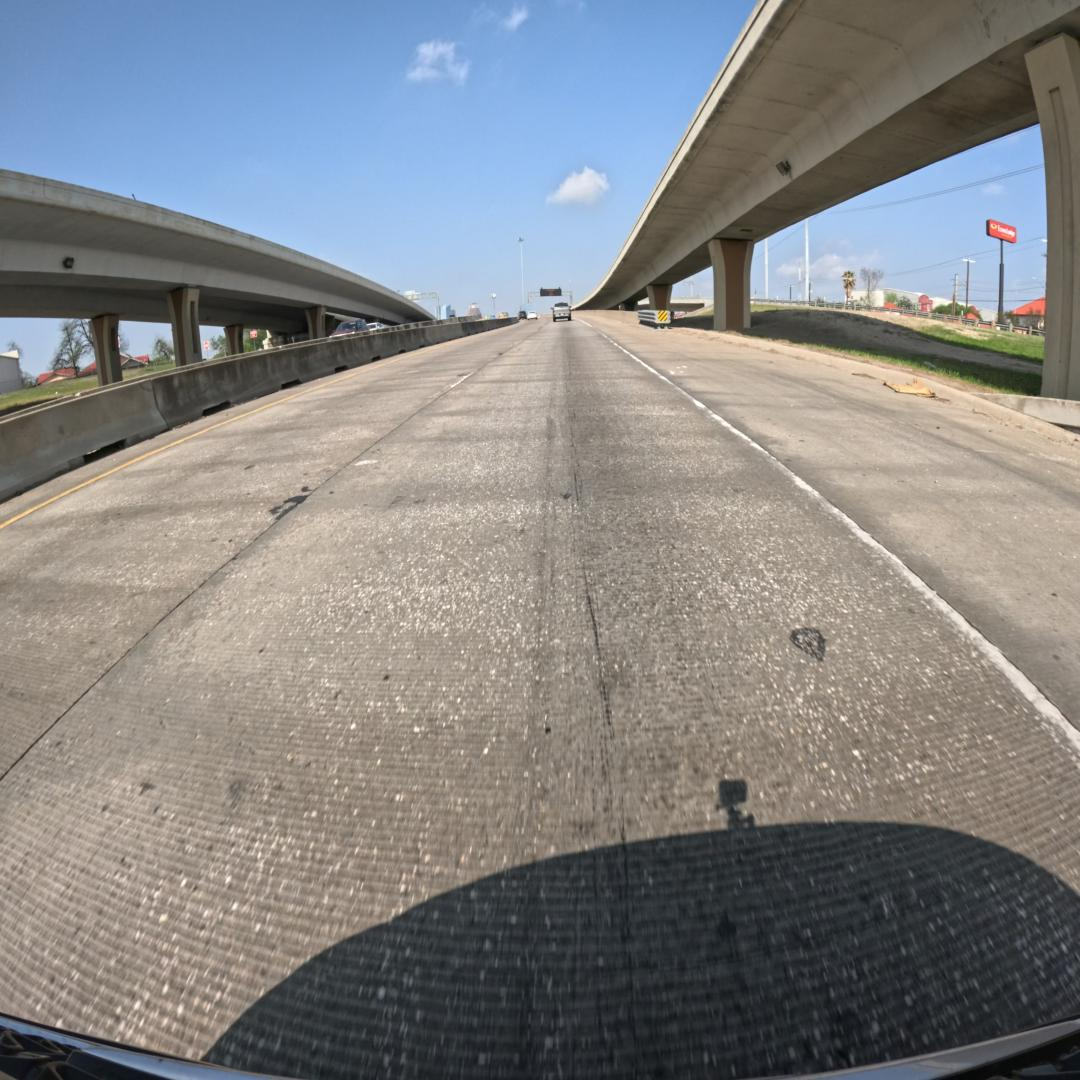lane0: (0, 322, 1080, 1077)
lane1: (0, 325, 535, 778)
